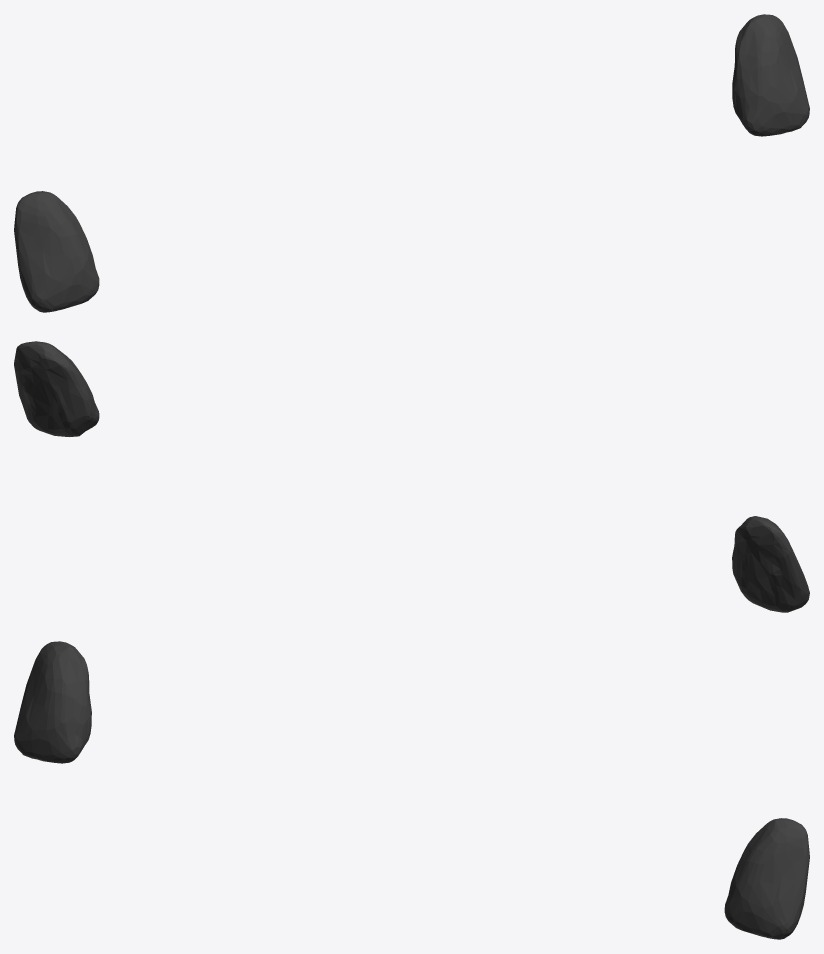
File: b_patella.glb
3 views of the same model, one above another, from view 1: azimuth 30°, elevation 25°; view 2: azimuth 150°, elevation 25°; view 3: azimuth 330°, elevation 25° (orthographic).
Visible parts, largest first — view 1: b_patella; view 2: b_patella; view 3: b_patella.
Boxes of the visible parts, <box> form: b_patella: <box>14,14,809,312</box>; b_patella: <box>14,341,809,612</box>; b_patella: <box>14,641,809,939</box>.
Size of the model in its own units: 0.0464 by 0.00589 by 0.00341.
1 material, 1 textured.
